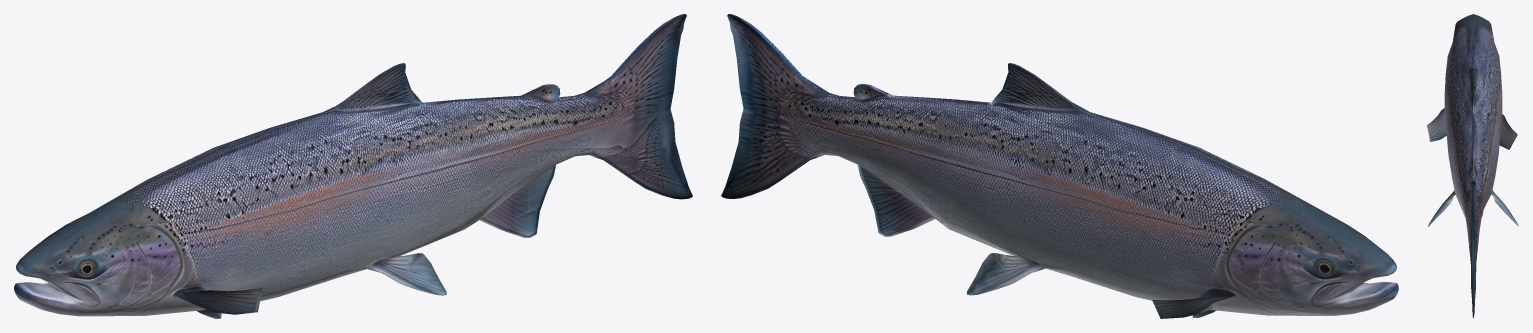
The model's file is salmon.glb.
The picture shows the model from 3 angles, left to right: view 1: azimuth 30°, elevation 25°; view 2: azimuth 150°, elevation 25°; view 3: azimuth 270°, elevation 25°; orthographic projection. The views are drawn at different scales.
Visible parts, largest first — view 1: tripo_node_b062766c-0e57-4a51-bb14-bd5658e654d6; view 2: tripo_node_b062766c-0e57-4a51-bb14-bd5658e654d6; view 3: tripo_node_b062766c-0e57-4a51-bb14-bd5658e654d6.
Boxes of the visible parts, left/top/right/bottom form: tripo_node_b062766c-0e57-4a51-bb14-bd5658e654d6: left=14, top=14, right=692, bottom=318; tripo_node_b062766c-0e57-4a51-bb14-bd5658e654d6: left=721, top=14, right=1398, bottom=318; tripo_node_b062766c-0e57-4a51-bb14-bd5658e654d6: left=1427, top=14, right=1518, bottom=318.
Size of the model in its own units: 0.9995 by 0.2993 by 0.1646.
1 material, 1 textured.
